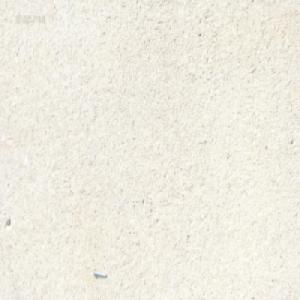Nail: (92, 267, 107, 277)
